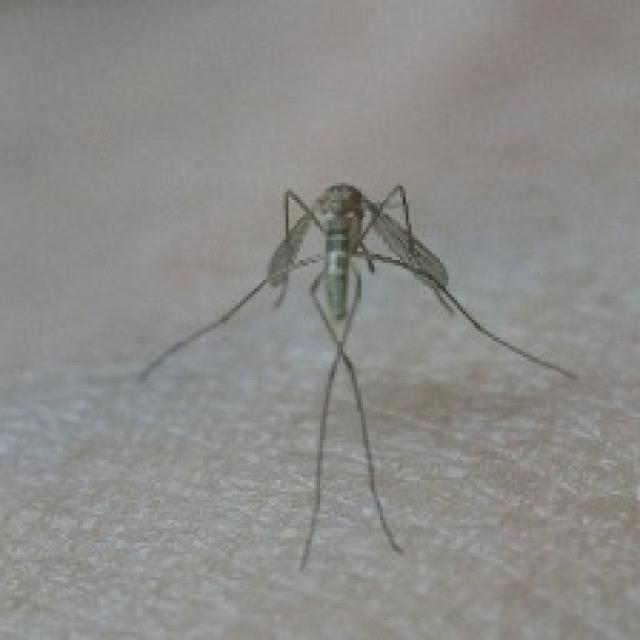culex: (134, 177, 577, 572)
